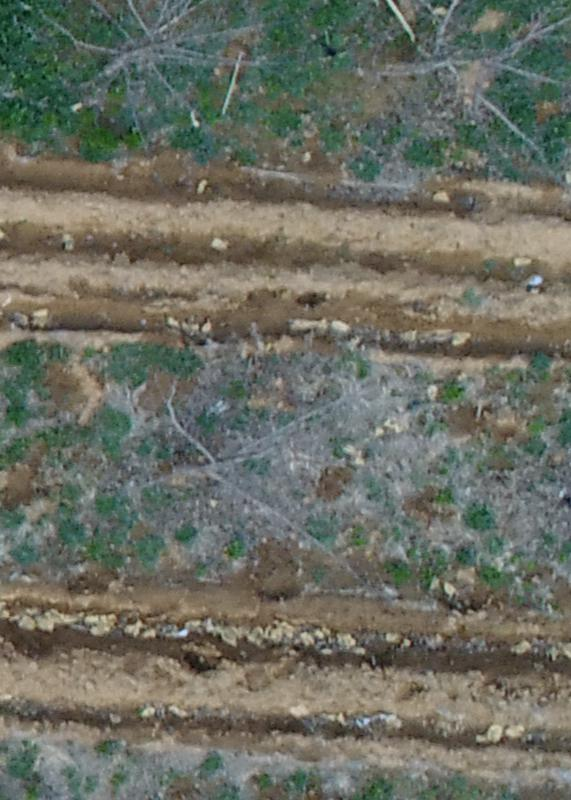apple: (125, 357, 390, 558), (348, 10, 561, 200), (13, 10, 291, 142)
